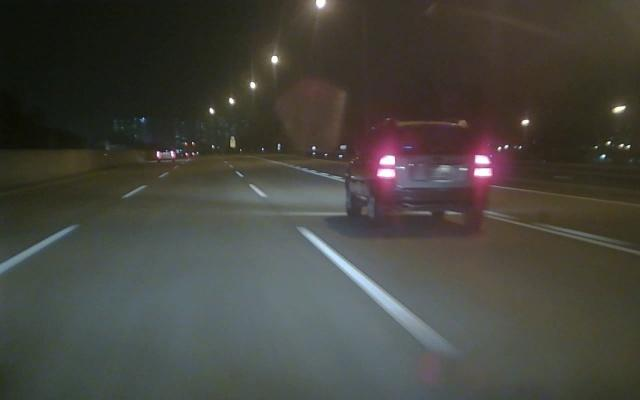lane: (243, 176, 464, 359), (307, 171, 639, 256), (1, 188, 141, 274)
